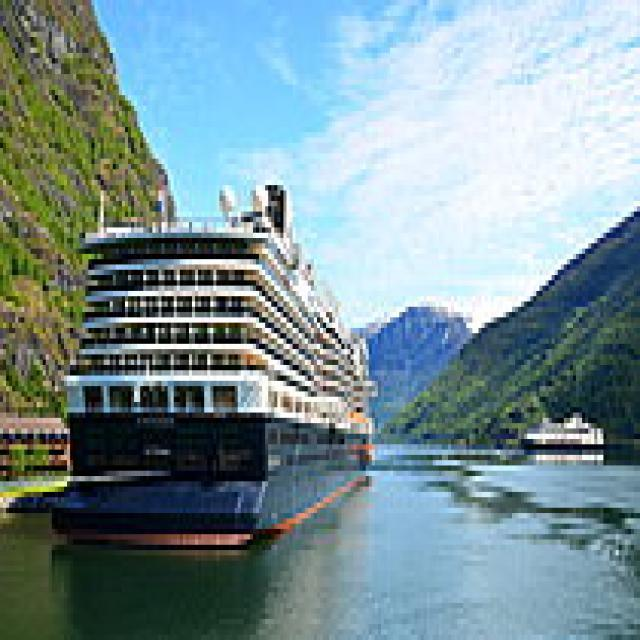Ship: (62, 170, 385, 562), (519, 398, 614, 472)
